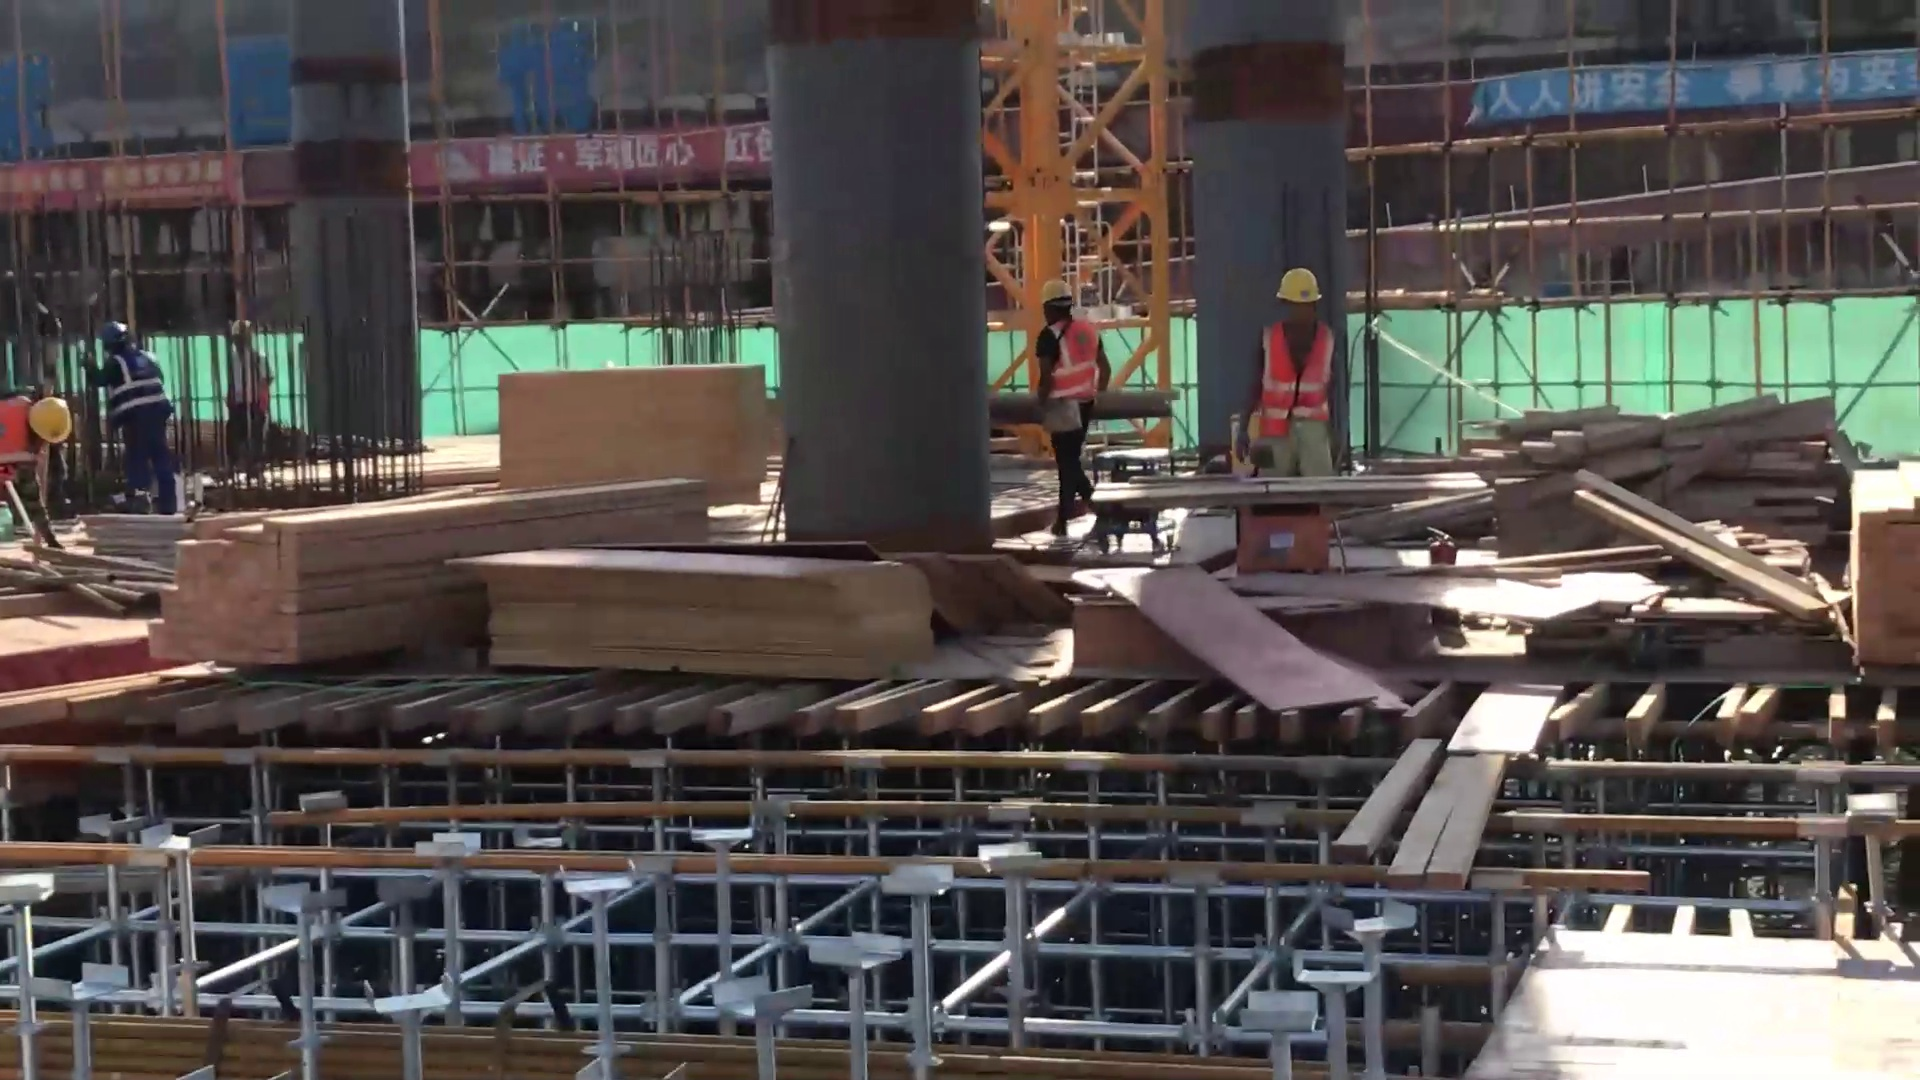helmet: (1019, 265, 1093, 306), (21, 392, 73, 448), (88, 316, 152, 360), (1280, 270, 1332, 306)
slogan: (1466, 45, 1920, 133), (419, 115, 798, 179)
vest: (1259, 311, 1332, 436), (98, 349, 170, 433), (1033, 316, 1100, 404), (222, 349, 285, 414)
wood: (105, 468, 716, 680)
